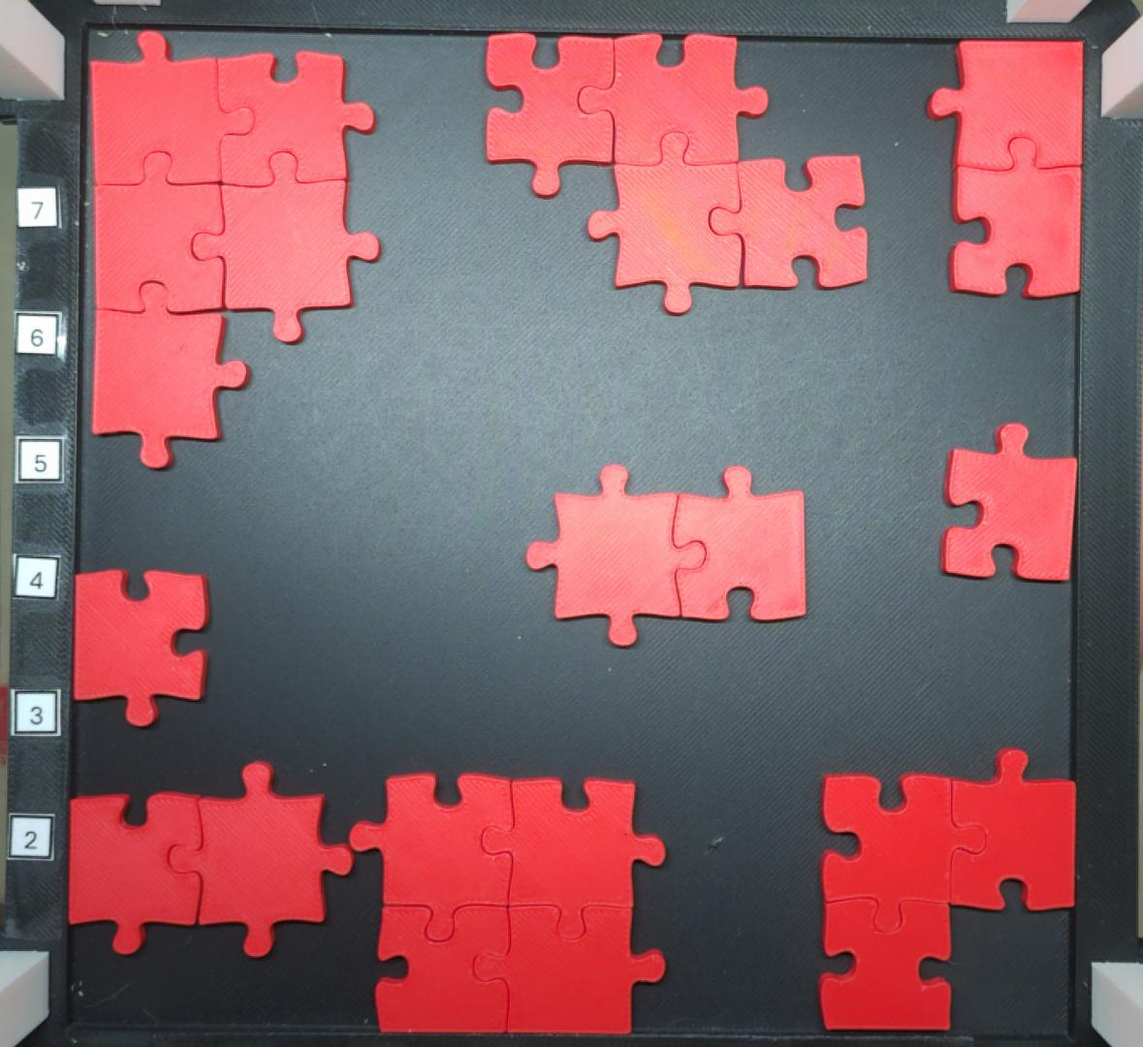p_1: (939, 422, 1078, 582), (72, 566, 209, 726)
p_2: (64, 761, 355, 957), (518, 460, 813, 650), (924, 41, 1085, 301)
p_3: (821, 746, 1079, 1032)
p_4: (484, 29, 873, 319), (350, 771, 665, 1034)
p_m: (84, 28, 382, 476)
